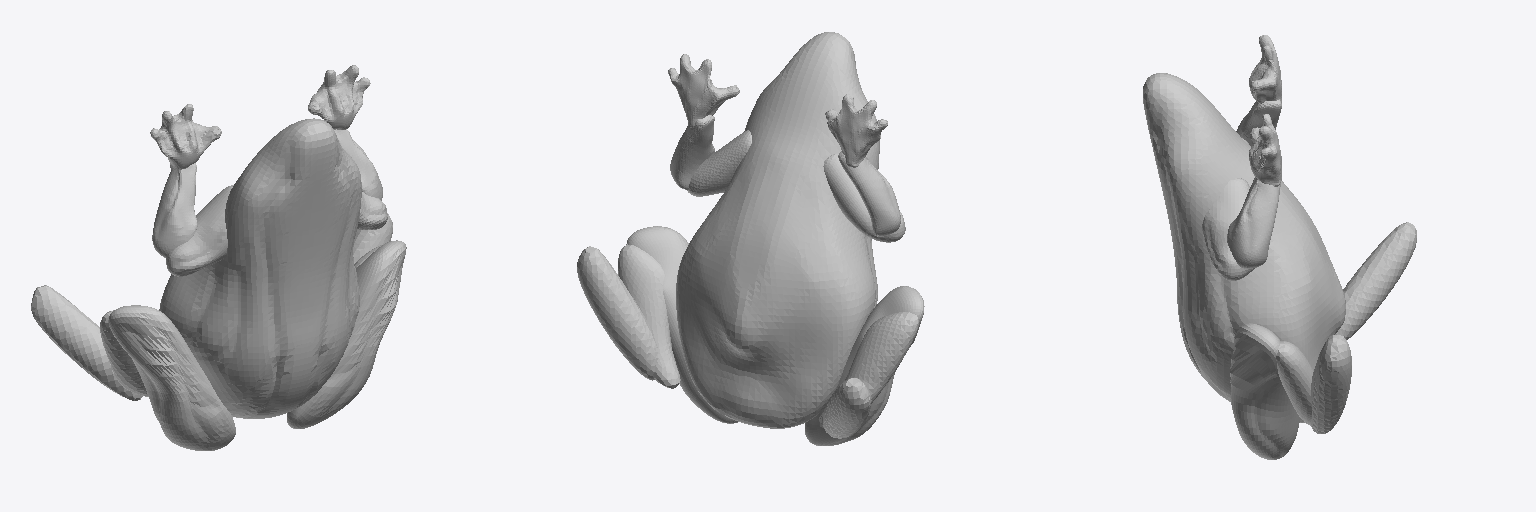
The model's file is topdownfrog.obj.
3 views of the same model, side by side, from view 1: azimuth 30°, elevation 25°; view 2: azimuth 150°, elevation 25°; view 3: azimuth 270°, elevation 25° (orthographic).
Visible parts, largest first — view 1: Sphere_Sphere.002, Cylinder_Cylinder.005, Cylinder.004_Cylinder.009, Sphere.001_Sphere.003, Cylinder.001_Cylinder.006, Cylinder.002_Cylinder.007, Cylinder.003_Cylinder.008; view 2: Sphere_Sphere.002, Cylinder.003_Cylinder.008, Cylinder.004_Cylinder.009, Cylinder_Cylinder.005, Sphere.001_Sphere.003, Cylinder.001_Cylinder.006, Cylinder.002_Cylinder.007; view 3: Sphere_Sphere.002, Cylinder.004_Cylinder.009, Cylinder_Cylinder.005, Cylinder.001_Cylinder.006, Sphere.001_Sphere.003, Cylinder.002_Cylinder.007, Cylinder.003_Cylinder.008.
Boxes of the visible parts, <box> form: Sphere_Sphere.002: <box>159,118,361,418</box>; Cylinder_Cylinder.005: <box>108,240,406,450</box>; Cylinder.004_Cylinder.009: <box>31,213,392,400</box>; Sphere.001_Sphere.003: <box>150,65,370,170</box>; Cylinder.001_Cylinder.006: <box>152,129,382,257</box>; Cylinder.002_Cylinder.007: <box>166,185,387,276</box>; Cylinder.003_Cylinder.008: <box>100,244,383,396</box>; Sphere_Sphere.002: <box>676,32,879,428</box>; Cylinder.003_Cylinder.008: <box>618,244,918,427</box>; Cylinder.004_Cylinder.009: <box>577,246,871,438</box>; Cylinder_Cylinder.005: <box>626,226,924,445</box>; Sphere.001_Sphere.003: <box>668,54,887,167</box>; Cylinder.001_Cylinder.006: <box>670,115,900,236</box>; Cylinder.002_Cylinder.007: <box>687,130,905,242</box>; Sphere_Sphere.002: <box>1143,73,1345,422</box>; Cylinder.004_Cylinder.009: <box>1311,222,1416,433</box>; Cylinder_Cylinder.005: <box>1230,323,1299,459</box>; Cylinder.001_Cylinder.006: <box>1227,99,1281,268</box>; Sphere.001_Sphere.003: <box>1249,35,1281,186</box>; Cylinder.002_Cylinder.007: <box>1202,138,1254,280</box>; Cylinder.003_Cylinder.008: <box>1276,341,1313,425</box>.
Size of the model in its own units: 1.3 by 1.37 by 0.9491.